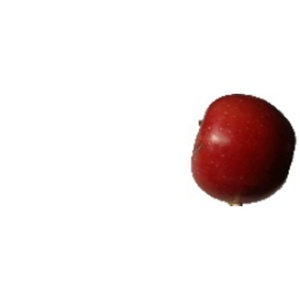maçã braeburn: (190, 93, 297, 204)
